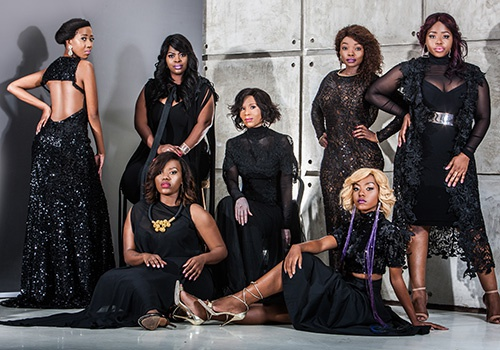bad: (421, 26, 457, 62), (345, 178, 381, 214), (149, 162, 185, 198)
